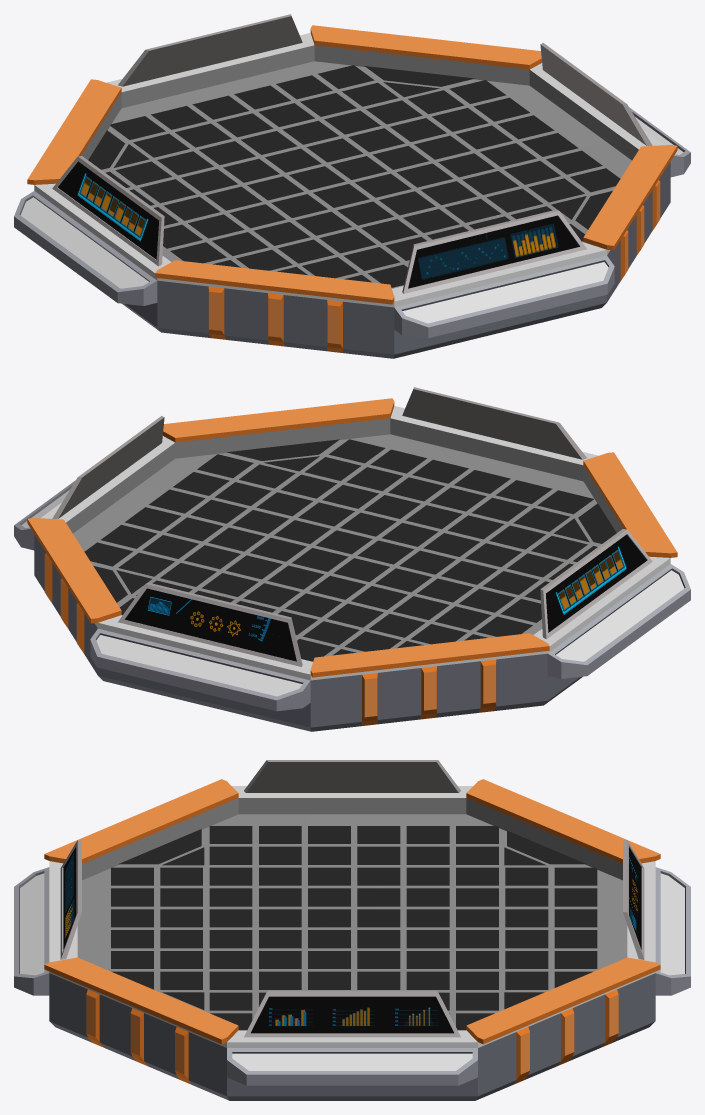
The model's file is DigitalTable_01.glb.
3 views of the same model, one above another, from view 1: azimuth 30°, elevation 25°; view 2: azimuth 150°, elevation 25°; view 3: azimuth 270°, elevation 25° (orthographic). The views are drawn at different scales.
Visible parts, largest first — view 1: DigitalTable_01; view 2: DigitalTable_01; view 3: DigitalTable_01.
Part boxes in pixels (x1,y1,x2,y2): DigitalTable_01: (14,14,690,358); DigitalTable_01: (14,387,690,731); DigitalTable_01: (14,760,690,1100).
Size of what is drawn, in the model's own units: 5.42 by 0.8756 by 5.42.
3 materials, 3 textured.
